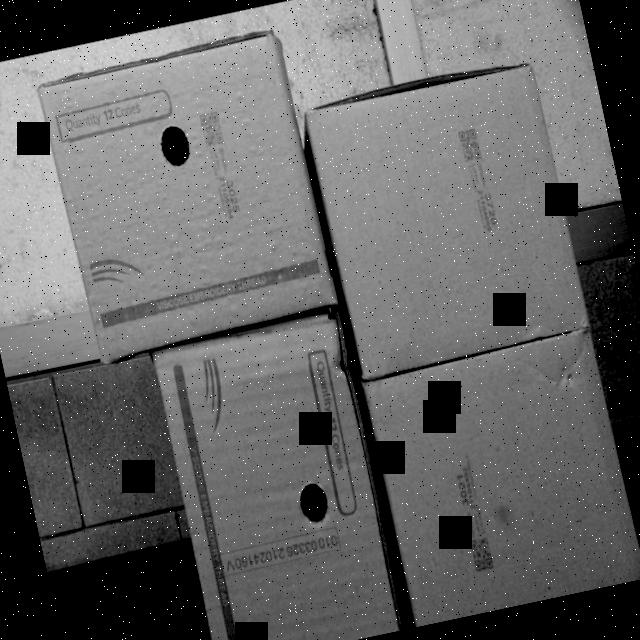box: (36, 28, 334, 360), (302, 56, 588, 377), (151, 309, 408, 640), (363, 329, 640, 626)
